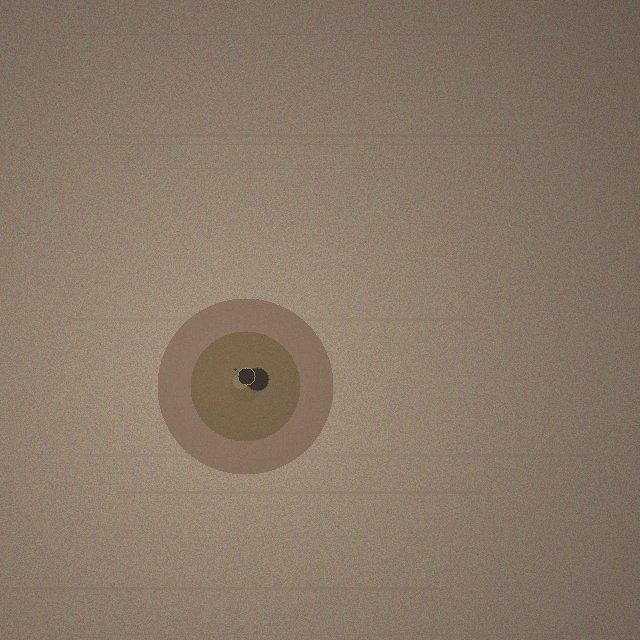shrinkage: (157, 298, 333, 474)
